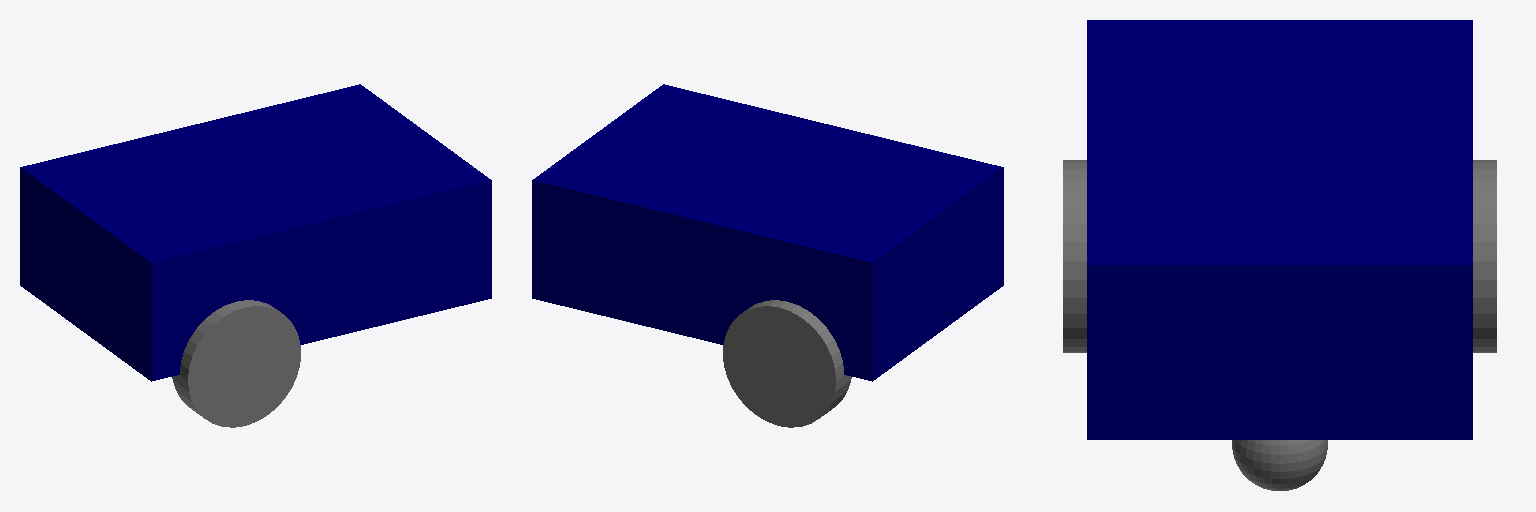
robot.urdf — robot:
<?xml version="1.0" ?>
<!-- =================================================================================== -->
<!-- |    This document was autogenerated by xacro from [local-path]/fedora[local-path]/Dokumente/TeleNav/simulation_ws/src/my_robot_description/urdf/robot.urdf.xacro | -->
<!-- |    EDITING THIS FILE BY HAND IS NOT RECOMMENDED                                 | -->
<!-- =================================================================================== -->
<robot name="robot">
  <!--Defines a material that can be used to color a geometry-->
  <material name="green">
    <color rgba="0 0.5 0 1"/>
    <!-- green color in rgba-->
  </material>
  <material name="blue">
    <color rgba="0 0 0.5 1"/>
    <!-- blue color in rgba-->
  </material>
  <material name="grey">
    <color rgba="0.5 0.5 0.5 1"/>
    <!-- green color in rgba-->
  </material>
  <link name="right_wheel_link">
    <visual>
      <origin rpy="1.5707963267948966 0 0" xyz="0 0 0"/>
      <geometry>
        <cylinder length="0.05" radius="0.1"/>
        <!-- in meters |  20cm radius | 20cm height -->
      </geometry>
      <material name="grey"/>
    </visual>
    <collision>
      <origin rpy="1.5707963267948966 0 0" xyz="0 0 0"/>
      <geometry>
        <cylinder length="0.05" radius="0.1"/>
        <!-- in meters |  20cm radius | 20cm height -->
      </geometry>
    </collision>
    <intertial>
      <origin rpy="0 0 0" xyz="0 0 0"/>
      <mass value="1"/>
      <inertia ixx="0.002708333333333334" ixy="0" ixz="0" iyx="0" iyy="0.002708333333333334" iyz="0" izx="0" izy="0" izz="0.005000000000000001"/>
    </intertial>
  </link>
  <link name="left_wheel_link">
    <visual>
      <origin rpy="1.5707963267948966 0 0" xyz="0 0 0"/>
      <geometry>
        <cylinder length="0.05" radius="0.1"/>
        <!-- in meters |  20cm radius | 20cm height -->
      </geometry>
      <material name="grey"/>
    </visual>
    <collision>
      <origin rpy="1.5707963267948966 0 0" xyz="0 0 0"/>
      <geometry>
        <cylinder length="0.05" radius="0.1"/>
        <!-- in meters |  20cm radius | 20cm height -->
      </geometry>
    </collision>
    <intertial>
      <origin rpy="0 0 0" xyz="0 0 0"/>
      <mass value="1"/>
      <inertia ixx="0.002708333333333334" ixy="0" ixz="0" iyx="0" iyy="0.002708333333333334" iyz="0" izx="0" izy="0" izz="0.005000000000000001"/>
    </intertial>
  </link>
  <link name="base_footprint">
    <visual>
      <origin rpy="0 0 0" xyz="0 0 0"/>
      <geometry>
        <box size="0 0 0"/>
      </geometry>
      <collision>
        <origin rpy="0 0 0" xyz="0 0 0"/>
        <geometry>
          <box size="0 0 0"/>
        </geometry>
      </collision>
      <material name="green"/>
      <intertial>
        <origin rpy="0 0 0" xyz="0 0 0"/>
        <mass value="0.01"/>
        <inertia ixx="0.0" ixy="0" ixz="0" iyx="0" iyy="0.0" iyz="0" izx="0" izy="0" izz="0.0"/>
      </intertial>
    </visual>
  </link>
  <joint name="footprint_to_base_link_joint" type="fixed">
    <parent link="base_footprint"/>
    <child link="base_link"/>
    <origin rpy="0 0 0" xyz="0 0 0.1"/>
  </joint>
  <!-- Defines the geometry and link of the robot-->
  <link name="base_link">
    <!-- The base link is nessesary as a basic link object-->
    <visual>
      <!-- Places the robot on the default position -->
      <origin rpy="0 0 0" xyz="0 0 0.1"/>
      <!-- position of the box rpy toll pitch yaw-->
      <geometry>
        <box size="0.6 0.4 0.2"/>
        <!-- in meters |  60cm long | 40cm wide | 20 cm high -->
      </geometry>
      <material name="blue"/>
      <!-- color of the box -->
    </visual>
    <collision>
      <geometry>
        <box size="0.6 0.4 0.2"/>
        <!-- in meters |  60cm long | 40cm wide | 20 cm high -->
      </geometry>
      <origin rpy="0 0 0" xyz="0 0 0.1"/>
    </collision>
    <intertial>
      <origin rpy="0 0 0" xyz="0 0 0.1"/>
      <mass value="5.0"/>
      <inertia ixx="0.08333333333333336" ixy="0" ixz="0" iyx="0" iyy="0.16666666666666669" iyz="0" izx="0" izy="0" izz="0.21666666666666667"/>
    </intertial>
  </link>
  <joint name="base_right_wheel_joint" type="continuous">
    <parent link="base_link"/>
    <child link="right_wheel_link"/>
    <origin rpy="0 0 0" xyz="-0.15 -0.2 0"/>
    <axis xyz="0 1 0"/>
  </joint>
  <joint name="base_left_wheel_joint" type="continuous">
    <parent link="base_link"/>
    <child link="left_wheel_link"/>
    <origin rpy="0 0 0" xyz="-0.15 0.2 0"/>
    <axis xyz="0 1 0"/>
  </joint>
  <link name="caster_wheel_link">
    <visual>
      <origin rpy="0 0 0" xyz="0 0 0"/>
      <geometry>
        <sphere radius="0.05"/>
        <!-- in meters |  20cm radius | 20cm height -->
      </geometry>
      <material name="grey"/>
    </visual>
    <intertial>
      <origin rpy="0 0 0" xyz="0 0 0"/>
      <mass value="0.5"/>
      <inertia ixx="0.0005000000000000001" ixy="0" ixz="0" iyx="0" iyy="0.0005000000000000001" iyz="0" izx="0" izy="0" izz="0.0005000000000000001"/>
    </intertial>
    <collision>
      <origin rpy="0 0 0" xyz="0 0 0"/>
      <geometry>
        <sphere radius="0.05"/>
        <!-- in meters |  20cm radius | 20cm height -->
      </geometry>
    </collision>
  </link>
  <joint name="base_caster_wheel_joint" type="continuous">
    <parent link="base_link"/>
    <child link="caster_wheel_link"/>
    <origin rpy="0 0 0" xyz="0.19999999999999998 0 -0.05"/>
    <axis xyz="0 1 0"/>
  </joint>
  <gazebo reference="right_wheel_link">
    <mu1>0.9</mu1>
    <mu2>0.9</mu2>
  </gazebo>
  <gazebo reference="left_wheel_link">
    <mu1>0.9</mu1>
    <mu2>0.9</mu2>
  </gazebo>
  <gazebo reference="caster_wheel_link">
    <mu1>0.2</mu1>
    <mu2>0.2</mu2>
  </gazebo>
  <gazebo reference="base_link">
    <material>Gazebo/Blue</material>
  </gazebo>
  <gazebo reference="right_wheel_link">
    <material>Gazebo/Grey</material>
  </gazebo>
  <gazebo reference="left_wheel_link">
    <material>Gazebo/Grey</material>
  </gazebo>
  <gazebo reference="base_footprint">
    <material>Gazebo/Green</material>
  </gazebo>
  <gazebo reference="caster_wheel_link">
    <material>Gazebo/Grey</material>
  </gazebo>
</robot>

--- Render facts (derived) ---
3 views of the same robot in one strip: view 1: azimuth 30°, elevation 25°; view 2: azimuth 150°, elevation 25°; view 3: azimuth 270°, elevation 25° (orthographic).
Model robot with 5 links and 4 joints (3 continuous, 1 fixed), rooted at base_footprint, posed every joint at zero.
Visible links, largest first — view 1: base_link, right_wheel_link; view 2: base_link, left_wheel_link; view 3: base_link, right_wheel_link, left_wheel_link, caster_wheel_link.
Boxes of the visible links, x1,y1,x2,y2 form: base_link: (20, 84, 491, 381); right_wheel_link: (172, 300, 300, 427); base_link: (532, 84, 1003, 381); left_wheel_link: (723, 300, 851, 427); base_link: (1087, 20, 1472, 439); right_wheel_link: (1063, 160, 1086, 352); left_wheel_link: (1473, 160, 1496, 352); caster_wheel_link: (1232, 440, 1327, 490).
Bounding box of the posed robot: 0.6 × 0.45 × 0.3 m (x, y, z).
Geometry: primitives only (box / cylinder / sphere), no mesh files.